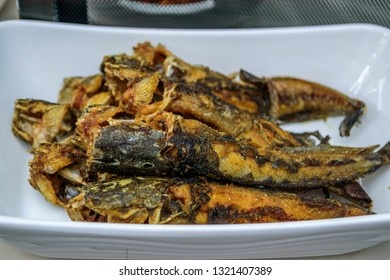pecel_lele: (86, 116, 386, 183)
